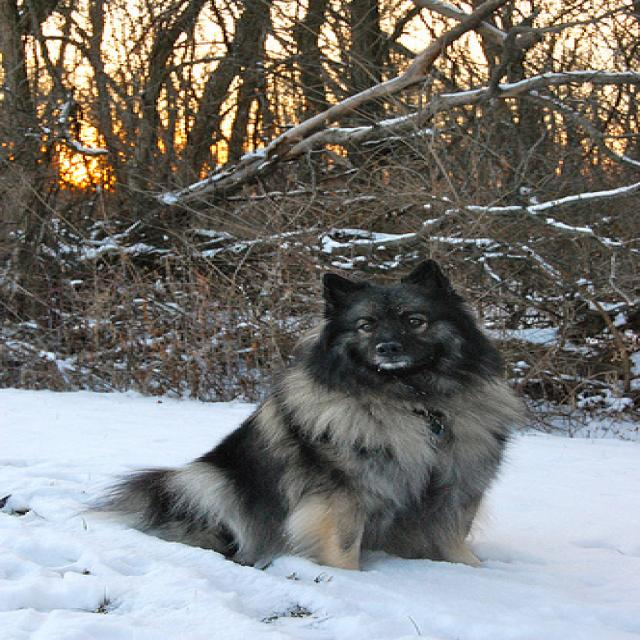dog-keeshond: (62, 253, 538, 579)
